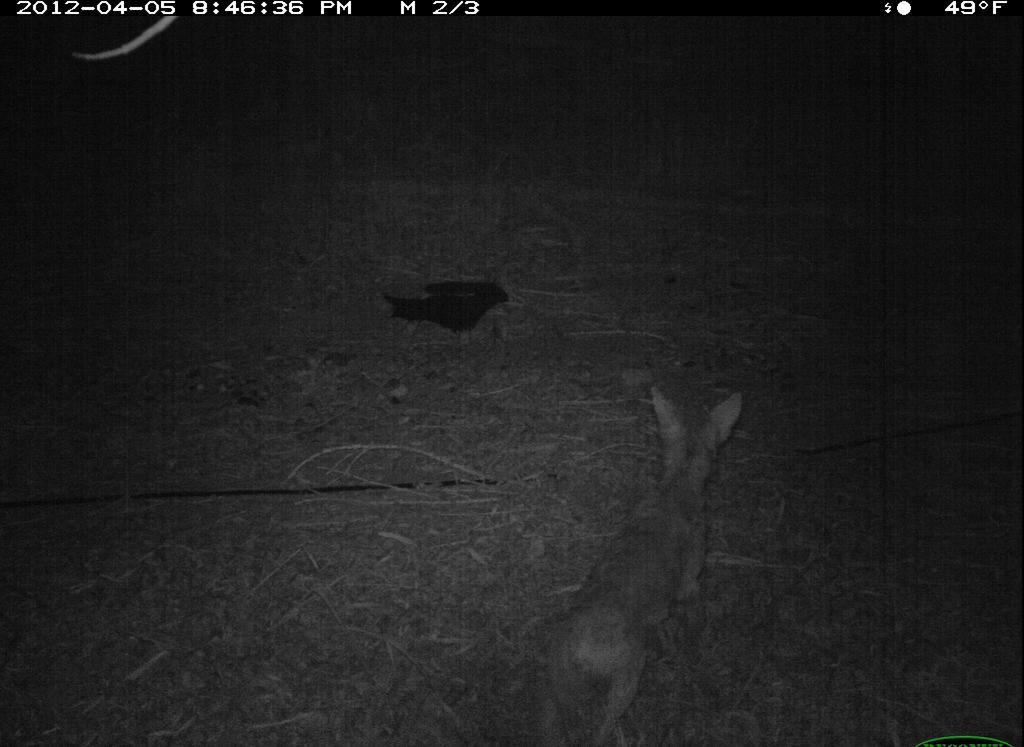coyote: (533, 370, 752, 744)
